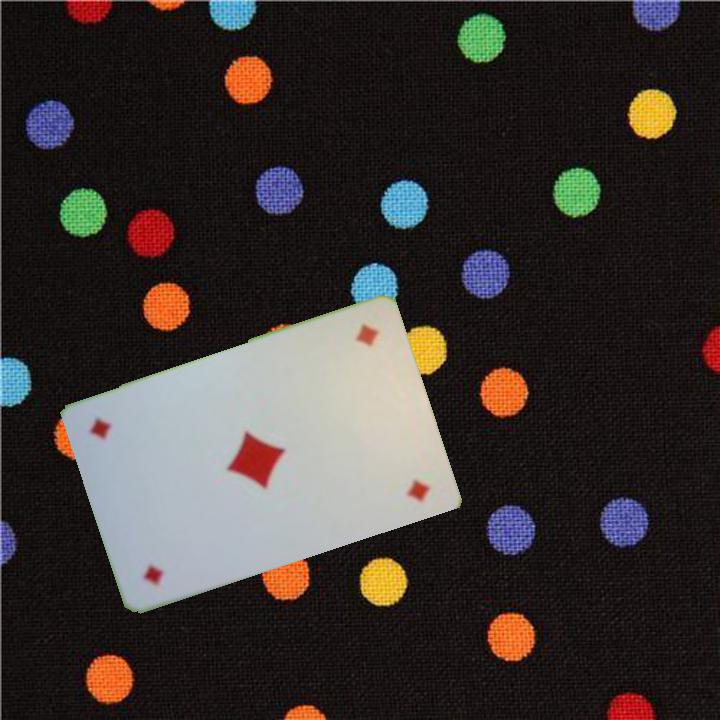d_a.png: (107, 475, 219, 596), (302, 312, 413, 432)
